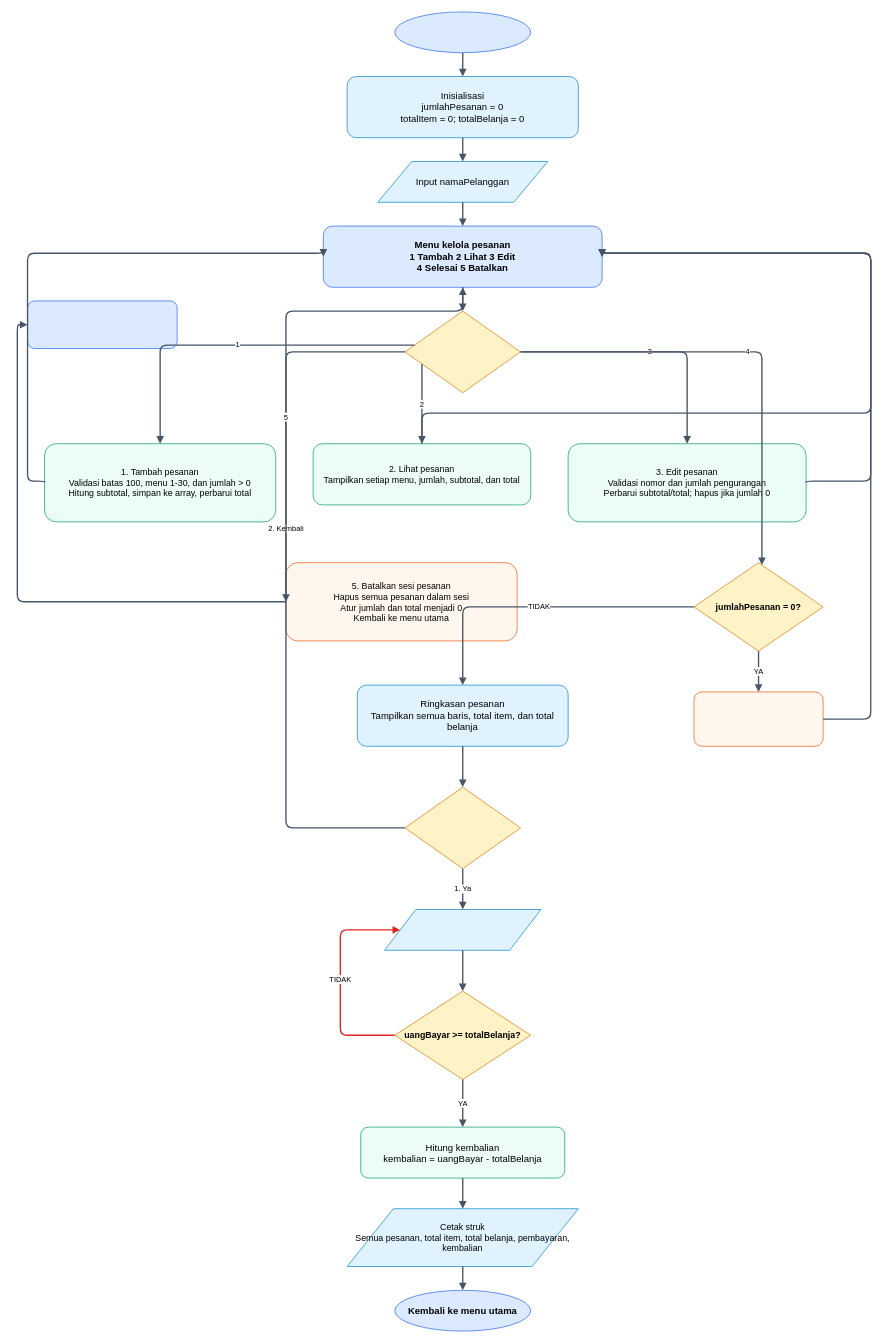
This 888x1343 diagram has some shape labels left out. The shapes that lost their labels are listed below. From the top down, each one's centre as x and y in pixels, then its label:
At (x=462, y=32): "Mulai pesanan".
At (x=102, y=324): "Menu utama".
At (x=462, y=351): "pilihanPesan?".
At (x=758, y=718): "Pesanan kosong Tampilkan pesan, kembali ke menu".
At (x=462, y=827): "Lanjut pembayaran?".
At (x=462, y=929): "Input uangBayar".
